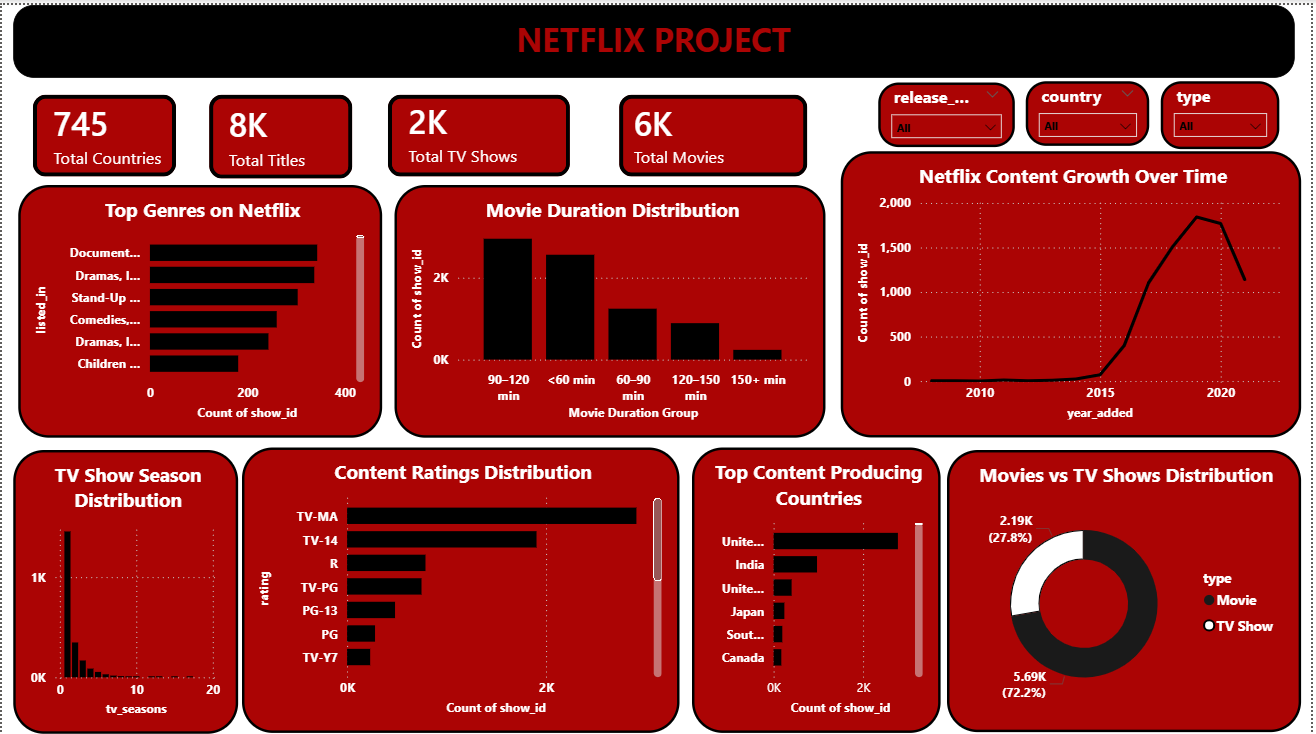

What the dashboard file says about the page in this screenshot:
{"tool":"powerbi","page":{"name":"Page 1","canvas":[1280,720],"ordinal":0},"visuals":[{"type":"cardVisual","fields":{"Data":["Sheet1.Total Countries"]},"box":[13.5,70.9,174.9,114.9],"z":0},{"type":"cardVisual","fields":{"Data":["Sheet1.Total TV Shows"]},"box":[360.7,70.9,212.8,114.9],"z":1000},{"type":"cardVisual","fields":{"Data":["Sheet1.Total Movies"]},"box":[587,70.9,218.9,114.9],"z":2000},{"type":"cardVisual","fields":{"Data":["Sheet1.Total Titles"]},"box":[185.9,70.9,174.9,116.2],"z":3000},{"type":"donutChart","title":"Movies vs TV Shows Distribution","fields":{"Category":["Sheet1.type"],"Y":["CountNonNull(Sheet1.show_id)"]},"box":[924.5,435.3,346.1,276.4],"z":4000},{"type":"lineChart","title":"Netflix Content Growth Over Time","fields":{"Category":["Sheet1.year_added"],"Y":["CountNonNull(Sheet1.show_id)"]},"box":[820.5,143.1,450,280],"z":5000},{"type":"clusteredBarChart","title":"Top Content Producing Countries","fields":{"Category":["Sheet1.country"],"Y":["CountNonNull(Sheet1.show_id)"]},"box":[675,432.9,243.3,278.8],"z":6000},{"type":"barChart","title":"Top Genres on Netflix","fields":{"Category":["Sheet1.listed_in"],"Y":["CountNonNull(Sheet1.show_id)"]},"box":[15.9,176.1,355.8,247],"z":7000},{"type":"clusteredBarChart","title":"Content Ratings Distribution","fields":{"Category":["Sheet1.rating"],"Y":["CountNonNull(Sheet1.show_id)"]},"box":[234.8,432.9,428,278.8],"z":8000},{"type":"columnChart","title":"Movie Duration Distribution","fields":{"Y":["CountNonNull(Sheet1.show_id)"],"Category":["Sheet1.Movie Duration Group"]},"box":[384,176.1,421.9,247],"z":8001},{"type":"columnChart","title":"TV Show Season Distribution","fields":{"Category":["Sheet1.tv_seasons"],"Y":["CountNonNull(Sheet1.show_id)"]},"box":[11,435.3,220.1,277.6],"z":8002},{"type":"slicer","fields":{"Values":["Sheet1.country"]},"box":[1001.5,74.6,121.1,63.6],"z":8003},{"type":"slicer","fields":{"Values":["Sheet1.type"]},"box":[1133.6,74.6,116.2,66],"z":8004},{"type":"slicer","fields":{"Values":["Sheet1.release_year"]},"box":[857.2,75.8,133.3,63.6],"z":8005},{"type":"textbox","box":[11,0,1253.4,70.9],"z":8006}]}

Visuals, with their boxes in screenshot pixels (x1, y1, x2, y2), scaled from the page's 1280x720 canvas onto the 1316x734 screenshot:
cardVisual - Sheet1.Total Countries: Rect(14, 72, 194, 189)
cardVisual - Sheet1.Total TV Shows: Rect(371, 72, 590, 189)
cardVisual - Sheet1.Total Movies: Rect(604, 72, 829, 189)
cardVisual - Sheet1.Total Titles: Rect(191, 72, 371, 191)
"Movies vs TV Shows Distribution" donutChart: Rect(951, 444, 1306, 726)
"Netflix Content Growth Over Time" lineChart: Rect(844, 146, 1306, 431)
"Top Content Producing Countries" clusteredBarChart: Rect(694, 441, 944, 726)
"Top Genres on Netflix" barChart: Rect(16, 180, 382, 431)
"Content Ratings Distribution" clusteredBarChart: Rect(241, 441, 681, 726)
"Movie Duration Distribution" columnChart: Rect(395, 180, 829, 431)
"TV Show Season Distribution" columnChart: Rect(11, 444, 238, 727)
slicer - Sheet1.country: Rect(1030, 76, 1154, 141)
slicer - Sheet1.type: Rect(1165, 76, 1285, 143)
slicer - Sheet1.release_year: Rect(881, 77, 1018, 142)
textbox: Rect(11, 0, 1300, 72)
